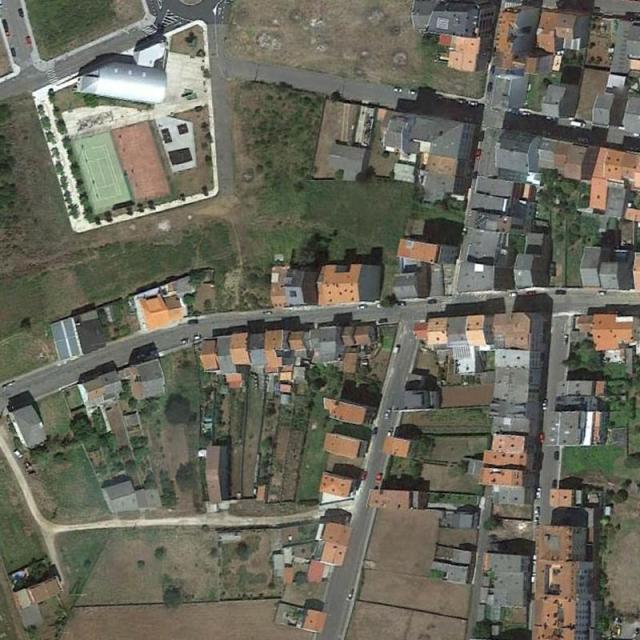vehicle: (570, 120, 586, 127), (12, 449, 22, 459), (10, 46, 18, 58), (554, 289, 567, 296), (576, 137, 589, 144), (3, 24, 9, 38), (180, 337, 190, 345), (374, 473, 382, 483), (356, 303, 367, 310), (535, 487, 542, 498), (538, 433, 545, 444), (541, 399, 548, 410), (361, 470, 368, 481), (455, 98, 466, 105), (486, 82, 493, 93), (382, 409, 390, 418), (467, 100, 479, 106), (18, 6, 24, 18), (371, 427, 378, 437), (551, 478, 558, 488), (534, 507, 540, 518), (392, 87, 403, 93), (524, 290, 535, 296), (387, 428, 394, 437), (395, 300, 405, 306), (26, 34, 31, 46), (346, 592, 352, 602), (490, 65, 495, 77), (188, 319, 199, 324), (554, 450, 559, 460), (407, 90, 417, 95), (193, 334, 201, 340), (393, 346, 399, 354), (597, 291, 605, 296), (522, 111, 530, 116), (509, 294, 518, 298)
